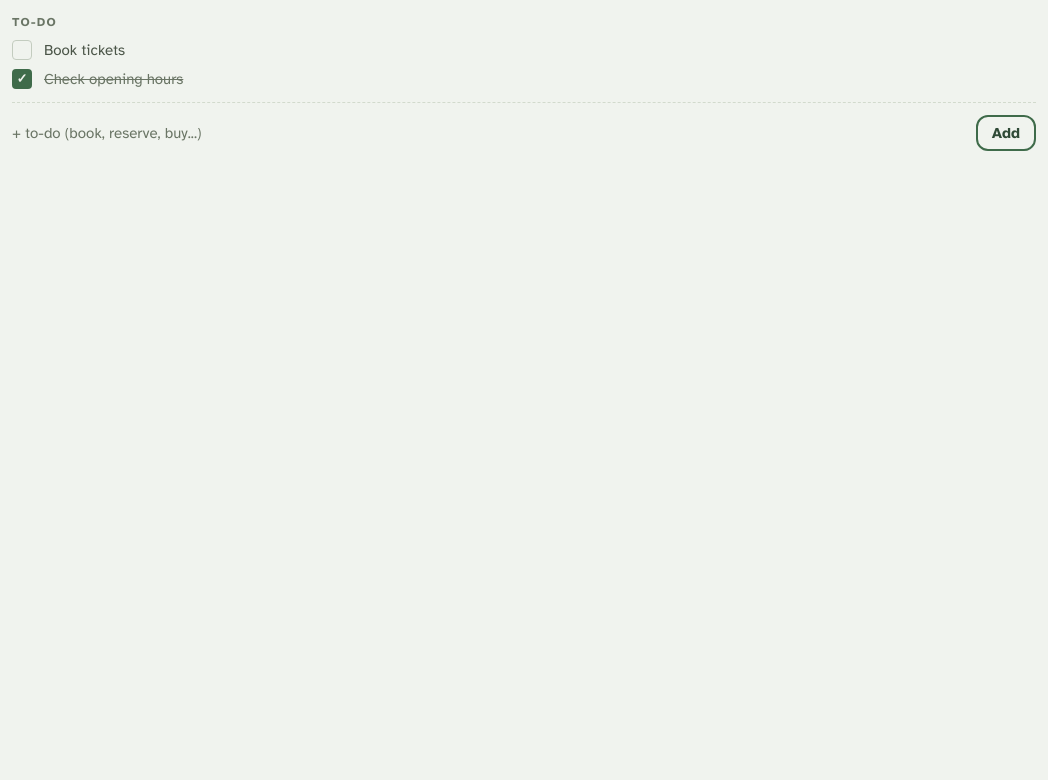
Test: IdeaTodos — adding one › keeps the words and says so when the create fails
This screenshot has width=1048, height=780.
In the field named "Add a to-do": (490, 133) 12,116 -> 968,150, type "Reserve the ryokan"
Then press Enter
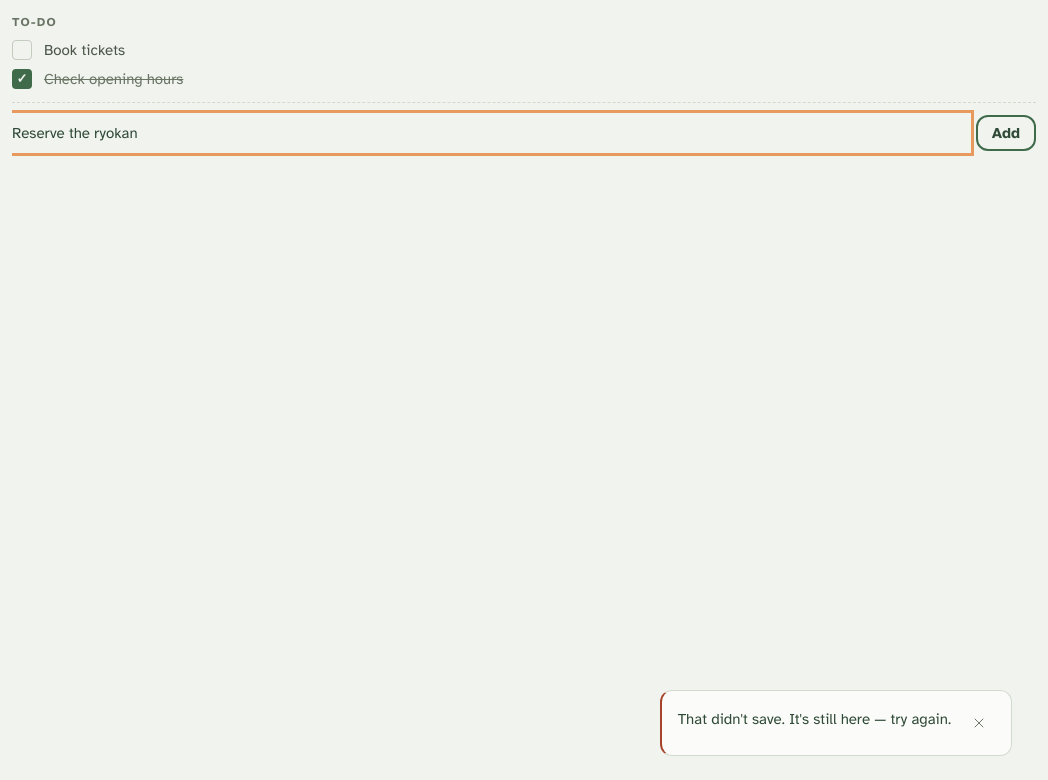
Check: the text "That didn't save. It's still here — try again." is shown, box 678,707 -> 951,732
